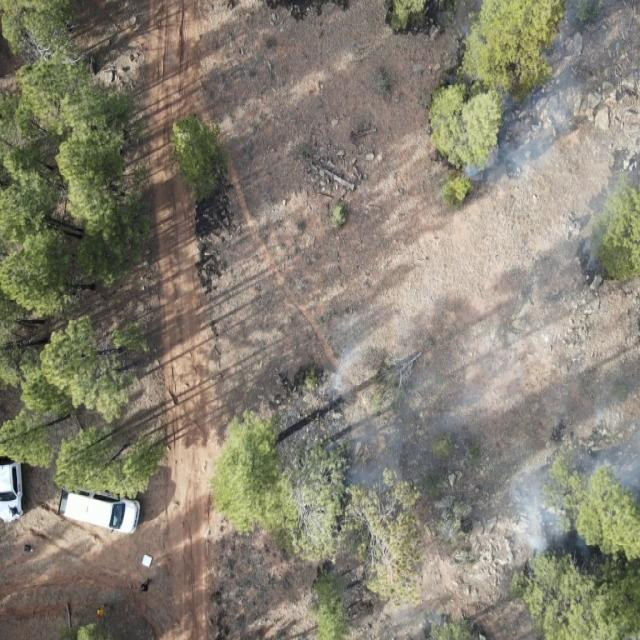smoke: (295, 310, 473, 544), (514, 429, 640, 553), (464, 88, 581, 174), (538, 0, 640, 86), (571, 172, 640, 263), (381, 597, 451, 640)
